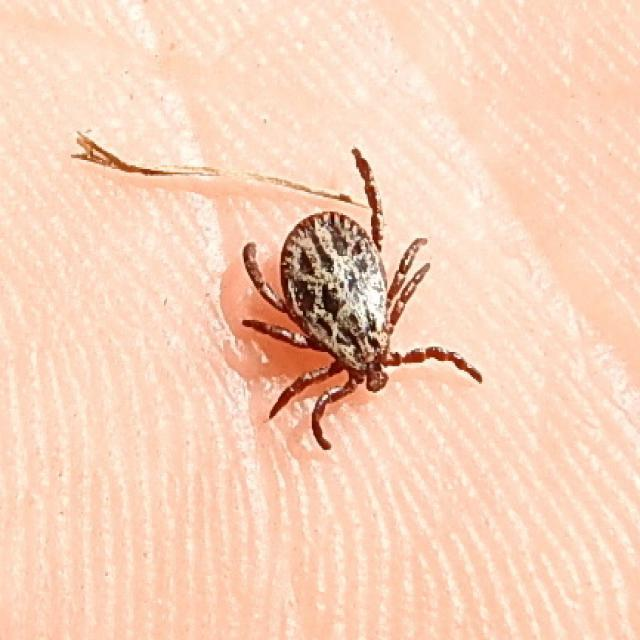Dermacentor Reticulatus-M: (241, 153, 483, 450)
